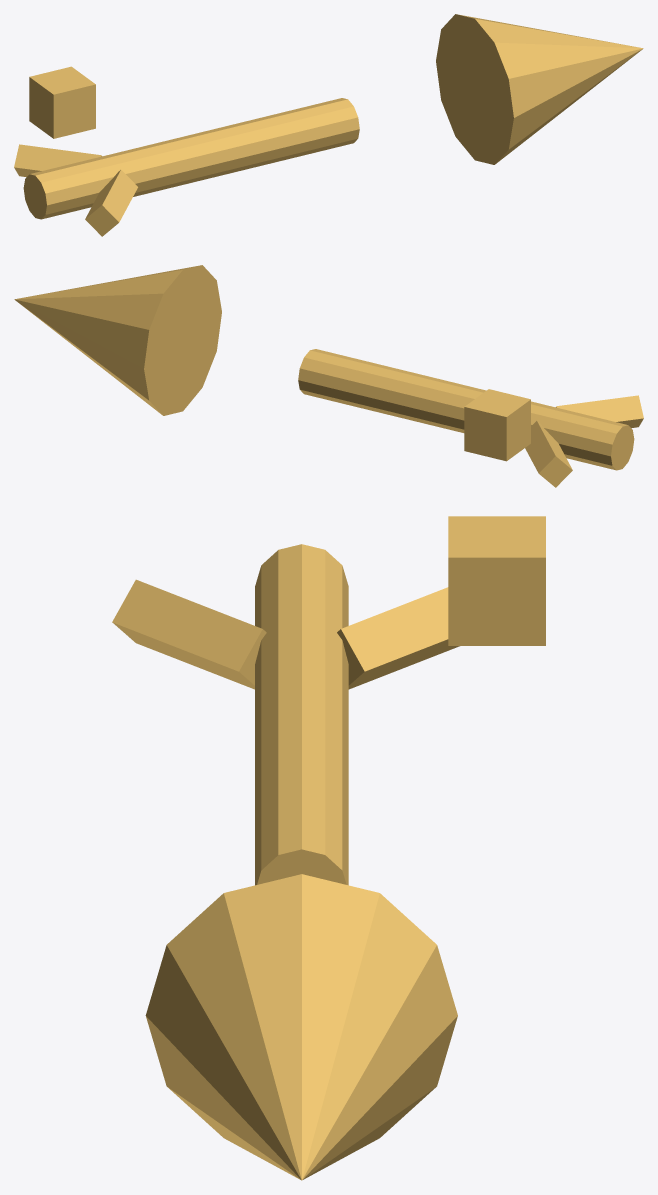
The model's file is SM_S05_Arrow.fbx.
3 renders of one model, top to bottom at view 1: azimuth 30°, elevation 25°; view 2: azimuth 150°, elevation 25°; view 3: azimuth 270°, elevation 25°, orthographic. The views are drawn at different scales.
Visible parts, largest first — view 1: SM_S05_Arrow; view 2: SM_S05_Arrow; view 3: SM_S05_Arrow.
Boxes of the visible parts, box(x1,y1,x2,y2) form: SM_S05_Arrow: box(14, 14, 643, 236); SM_S05_Arrow: box(14, 265, 643, 487); SM_S05_Arrow: box(112, 516, 545, 1180).
Bounding box in the file's own units: 72 × 22.22 × 16.
